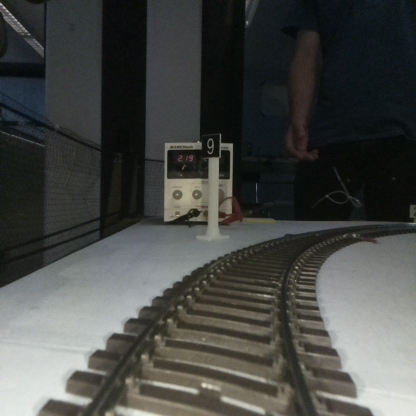black-info-9: (202, 134, 219, 238)
